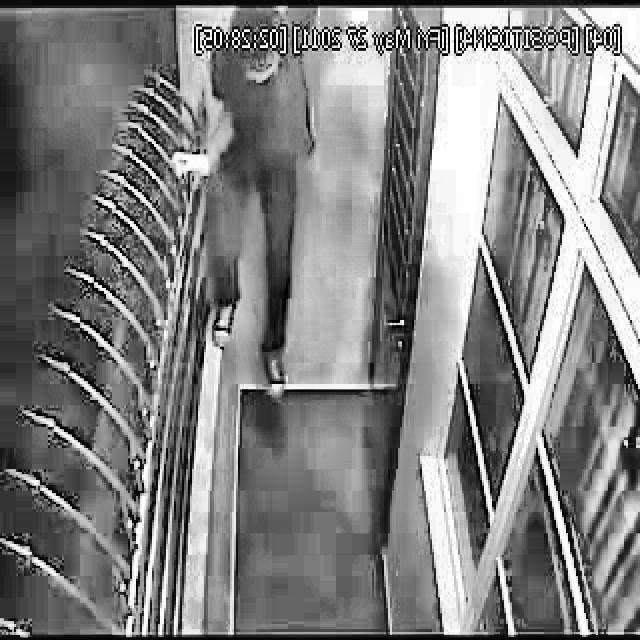burglary: (176, 11, 324, 404)
